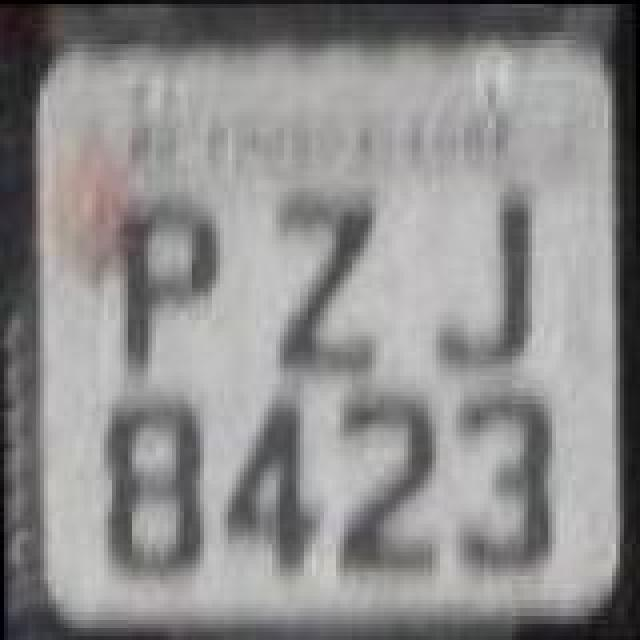2: (332, 392, 440, 576)
3: (456, 384, 556, 572)
4: (218, 398, 322, 574)
8: (98, 392, 210, 572)
J: (432, 184, 544, 376)
P: (114, 202, 222, 370)
Z: (268, 188, 388, 376)
